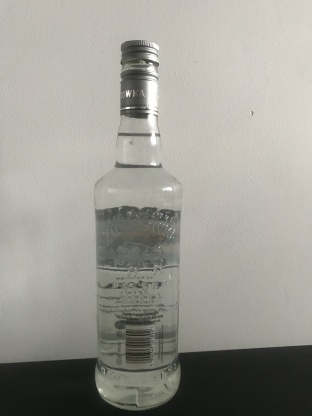nakretka: (118, 37, 160, 117)
